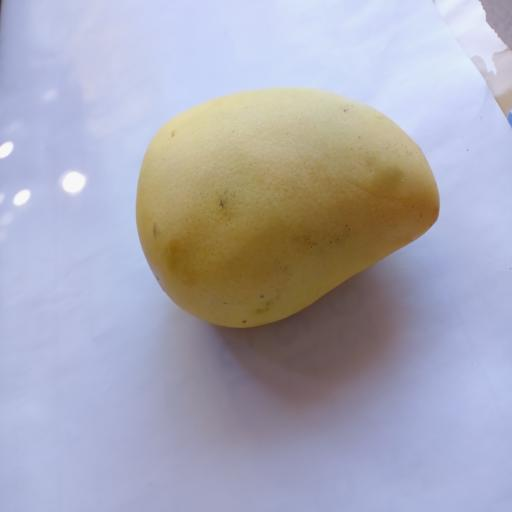mango-ripe: (120, 82, 453, 347)
